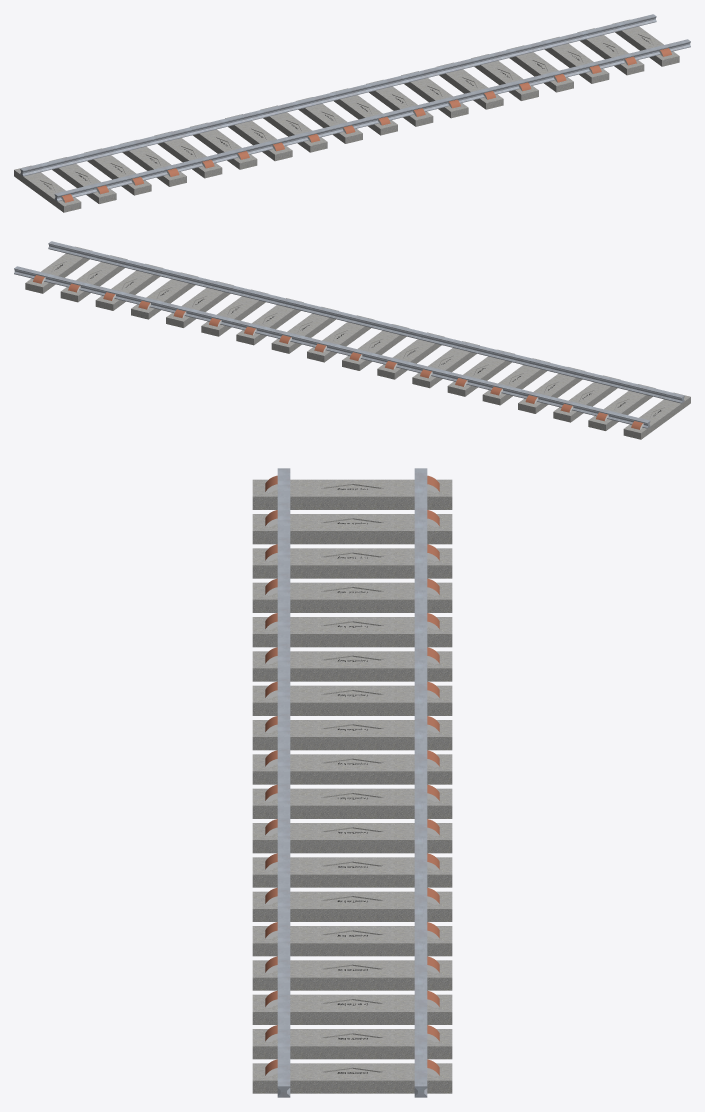
File: track-1L.fbx
The picture shows the model from 3 angles, top to bottom: view 1: azimuth 30°, elevation 25°; view 2: azimuth 150°, elevation 25°; view 3: azimuth 270°, elevation 25°; orthographic projection. The views are drawn at different scales.
Parts seen in each view (by area): view 1: Train_Track1; view 2: Train_Track1; view 3: Train_Track1.
Part boxes in pixels (x1,y1,x2,y2): Train_Track1: (14, 14, 690, 212); Train_Track1: (14, 241, 690, 439); Train_Track1: (252, 468, 452, 1097).
Bounding box in the file's own units: 24.13 × 0.4456 × 3.29.
